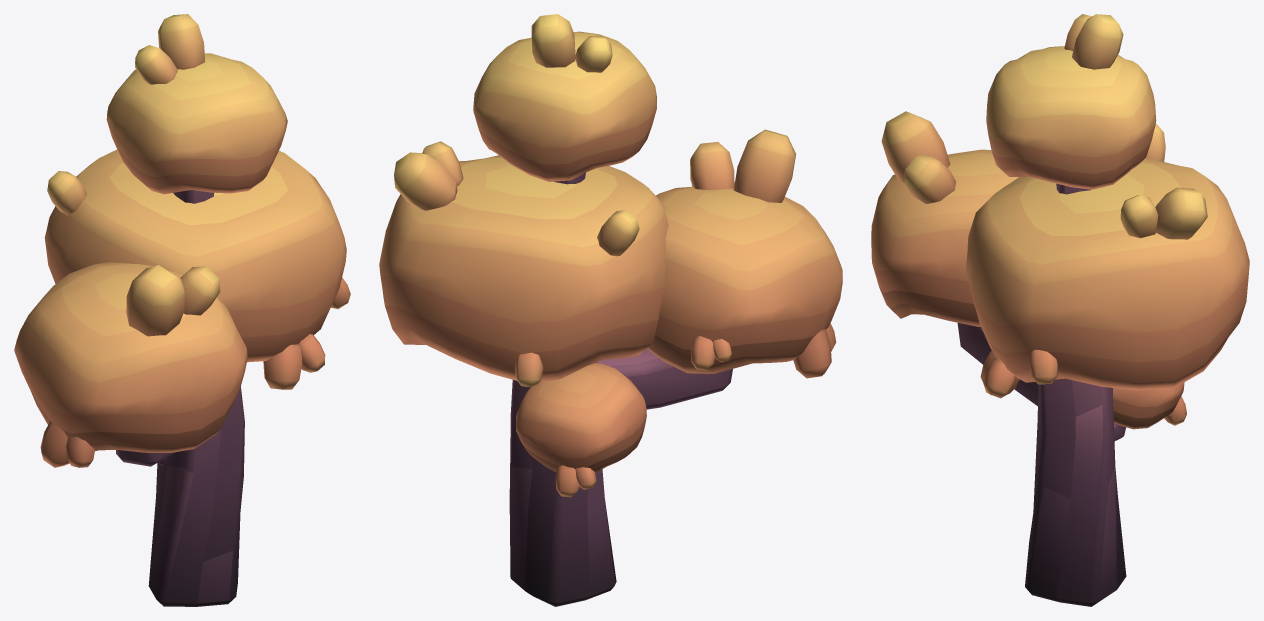
File: grassland_tree_col2_5.fbx
The picture shows the model from 3 angles, left to right: view 1: azimuth 30°, elevation 25°; view 2: azimuth 150°, elevation 25°; view 3: azimuth 270°, elevation 25°; orthographic projection. The views are drawn at different scales.
Visible parts, largest first — view 1: grassland_tree_col2_5; view 2: grassland_tree_col2_5; view 3: grassland_tree_col2_5.
Part boxes in pixels (x1,y1,x2,y2): grassland_tree_col2_5: [14, 14, 350, 606]; grassland_tree_col2_5: [379, 14, 842, 606]; grassland_tree_col2_5: [871, 14, 1249, 606].
Bounding box in the file's own units: 663 × 1031 × 618.
